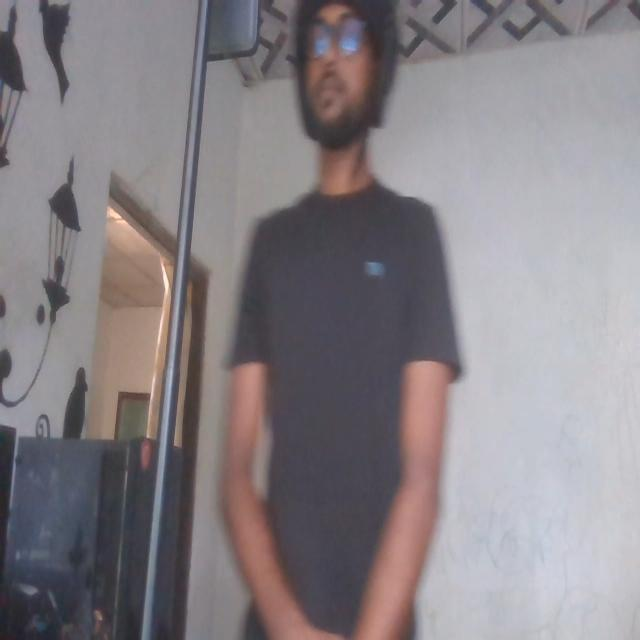Helmet_Wearer: (290, 0, 393, 181)
Person: (230, 1, 470, 640)
